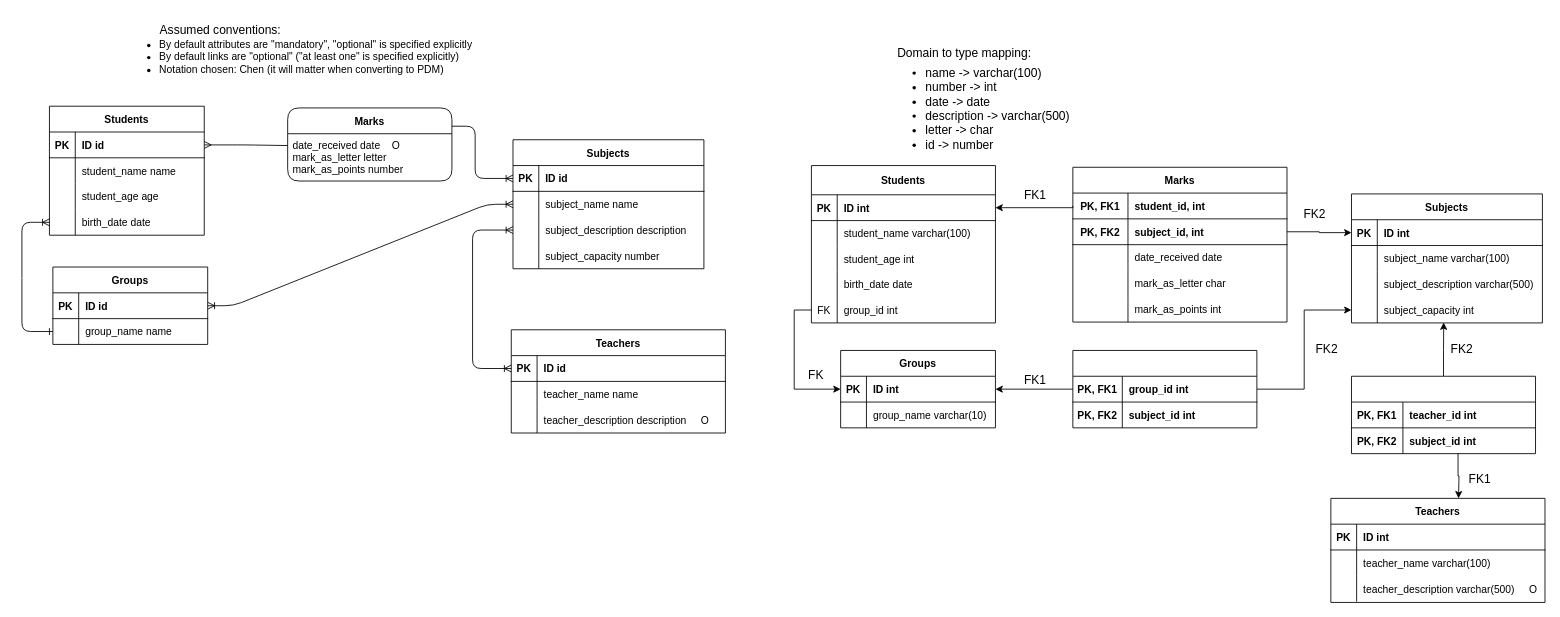
This 1560x617 diagram has some shape labels left out. The shapes that lost their labels are listed below. From the top down, each one's box as (x1, y1, x2, y2) in pixels, then its label:
(1072, 350, 1257, 428): GroupHasSubjects
(1351, 375, 1536, 454): TeacherTeachesSubjects
